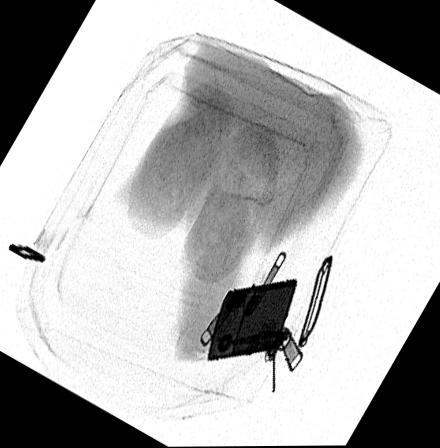Lighter: (206, 277, 298, 361)
